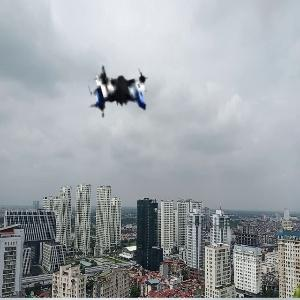drone: (78, 59, 176, 157)
